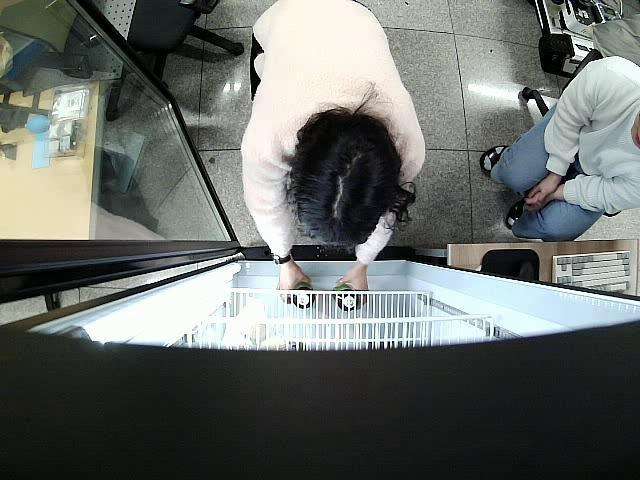19_17cha: (286, 282, 317, 309), (336, 283, 358, 312)
